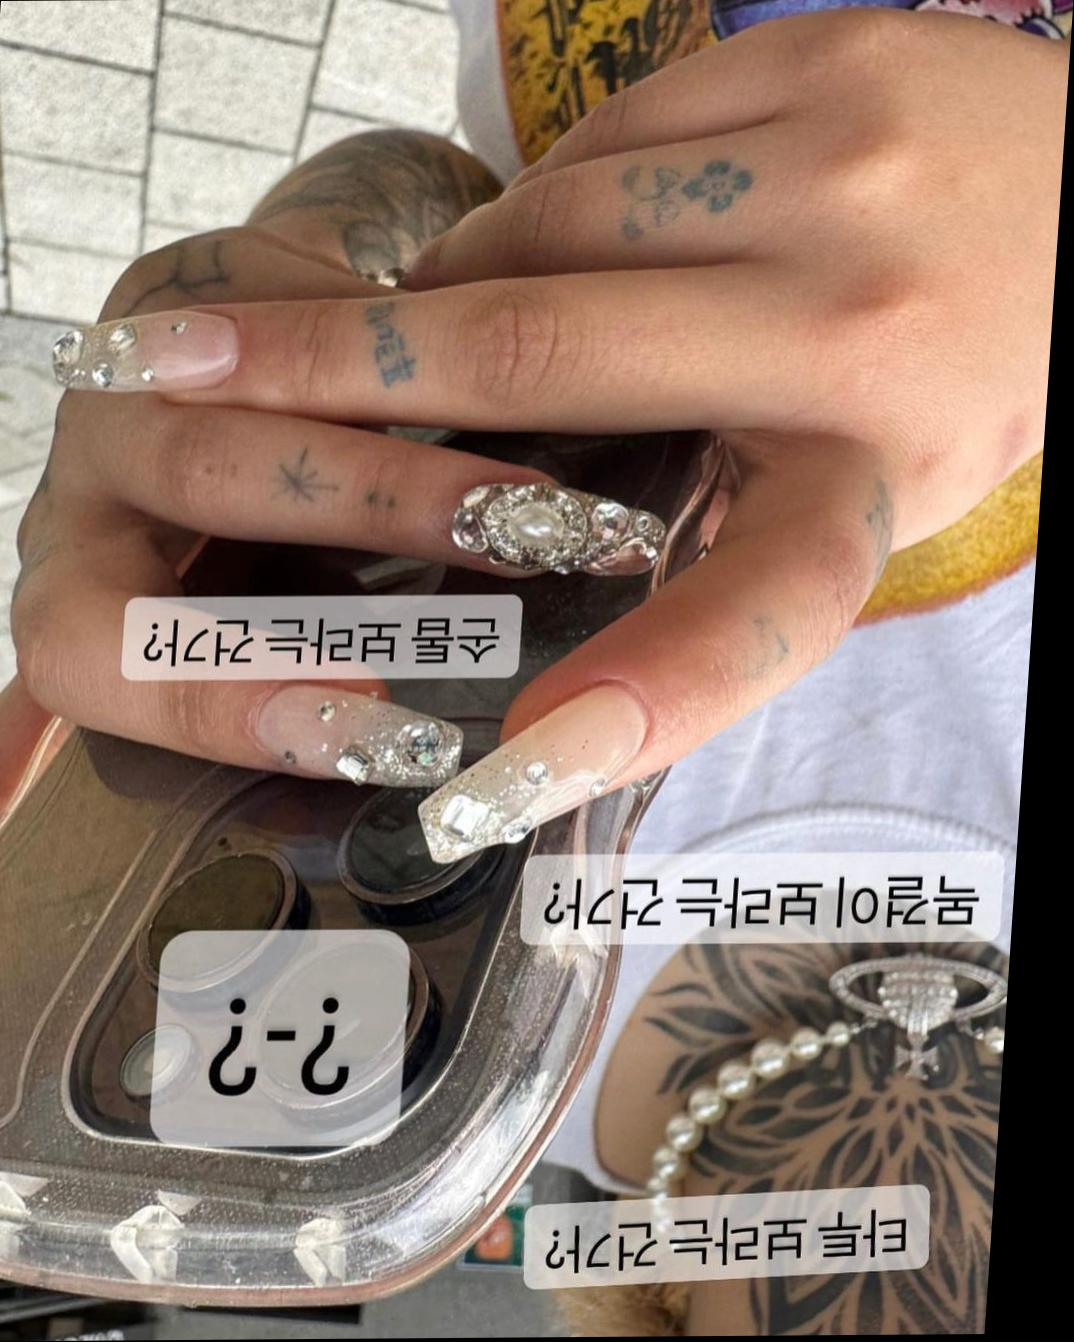nail: (413, 678, 655, 865), (247, 680, 467, 791), (47, 307, 244, 394)
